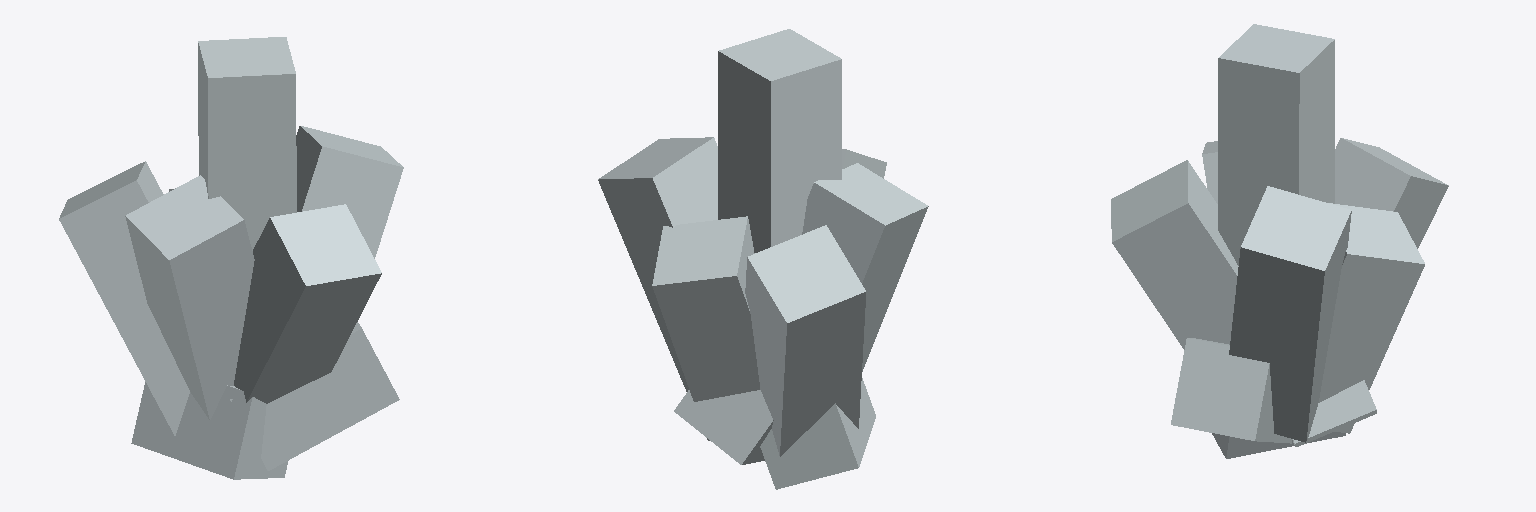
File: Scandium.obj
3 views of the same model, side by side, from view 1: azimuth 30°, elevation 25°; view 2: azimuth 150°, elevation 25°; view 3: azimuth 270°, elevation 25° (orthographic).
Visible parts, largest first — view 1: group[number redacted], group[number redacted], group[number redacted], group[number redacted], group[number redacted], group[number redacted], group[number redacted]; view 2: group[number redacted], group[number redacted], group[number redacted], group[number redacted], group[number redacted], group[number redacted], group[number redacted], group[number redacted]; view 3: group[number redacted], group[number redacted], group[number redacted], group[number redacted], group[number redacted], group[number redacted], group[number redacted], group[number redacted], group[number redacted].
Part boxes in pixels (x1,y1,x2,y2): group[number redacted]: (234,204,381,403); group[number redacted]: (125,175,254,419); group[number redacted]: (198,37,296,250); group[number redacted]: (59,161,189,435); group[number redacted]: (230,322,399,470); group[number redacted]: (131,382,288,479); group[number redacted]: (296,126,403,258); group[number redacted]: (718,29,841,252); group[number redacted]: (745,225,865,456); group[number redacted]: (652,216,759,440); group[number redacted]: (598,137,717,391); group[number redacted]: (802,163,928,371); group[number redacted]: (760,378,875,489); group[number redacted]: (674,390,773,464); group[number redacted]: (842,149,886,178); group[number redacted]: (1218,24,1334,265); group[number redacted]: (1229,186,1351,442); group[number redacted]: (1111,160,1238,349); group[number redacted]: (1319,203,1424,433); group[number redacted]: (1171,338,1291,443); group[number redacted]: (1335,138,1448,248); group[number redacted]: (1292,380,1376,446); group[number redacted]: (1212,432,1345,458); group[number redacted]: (1202,141,1217,203).
Size of the model in its own units: 0.5 by 0.6548 by 0.4954.